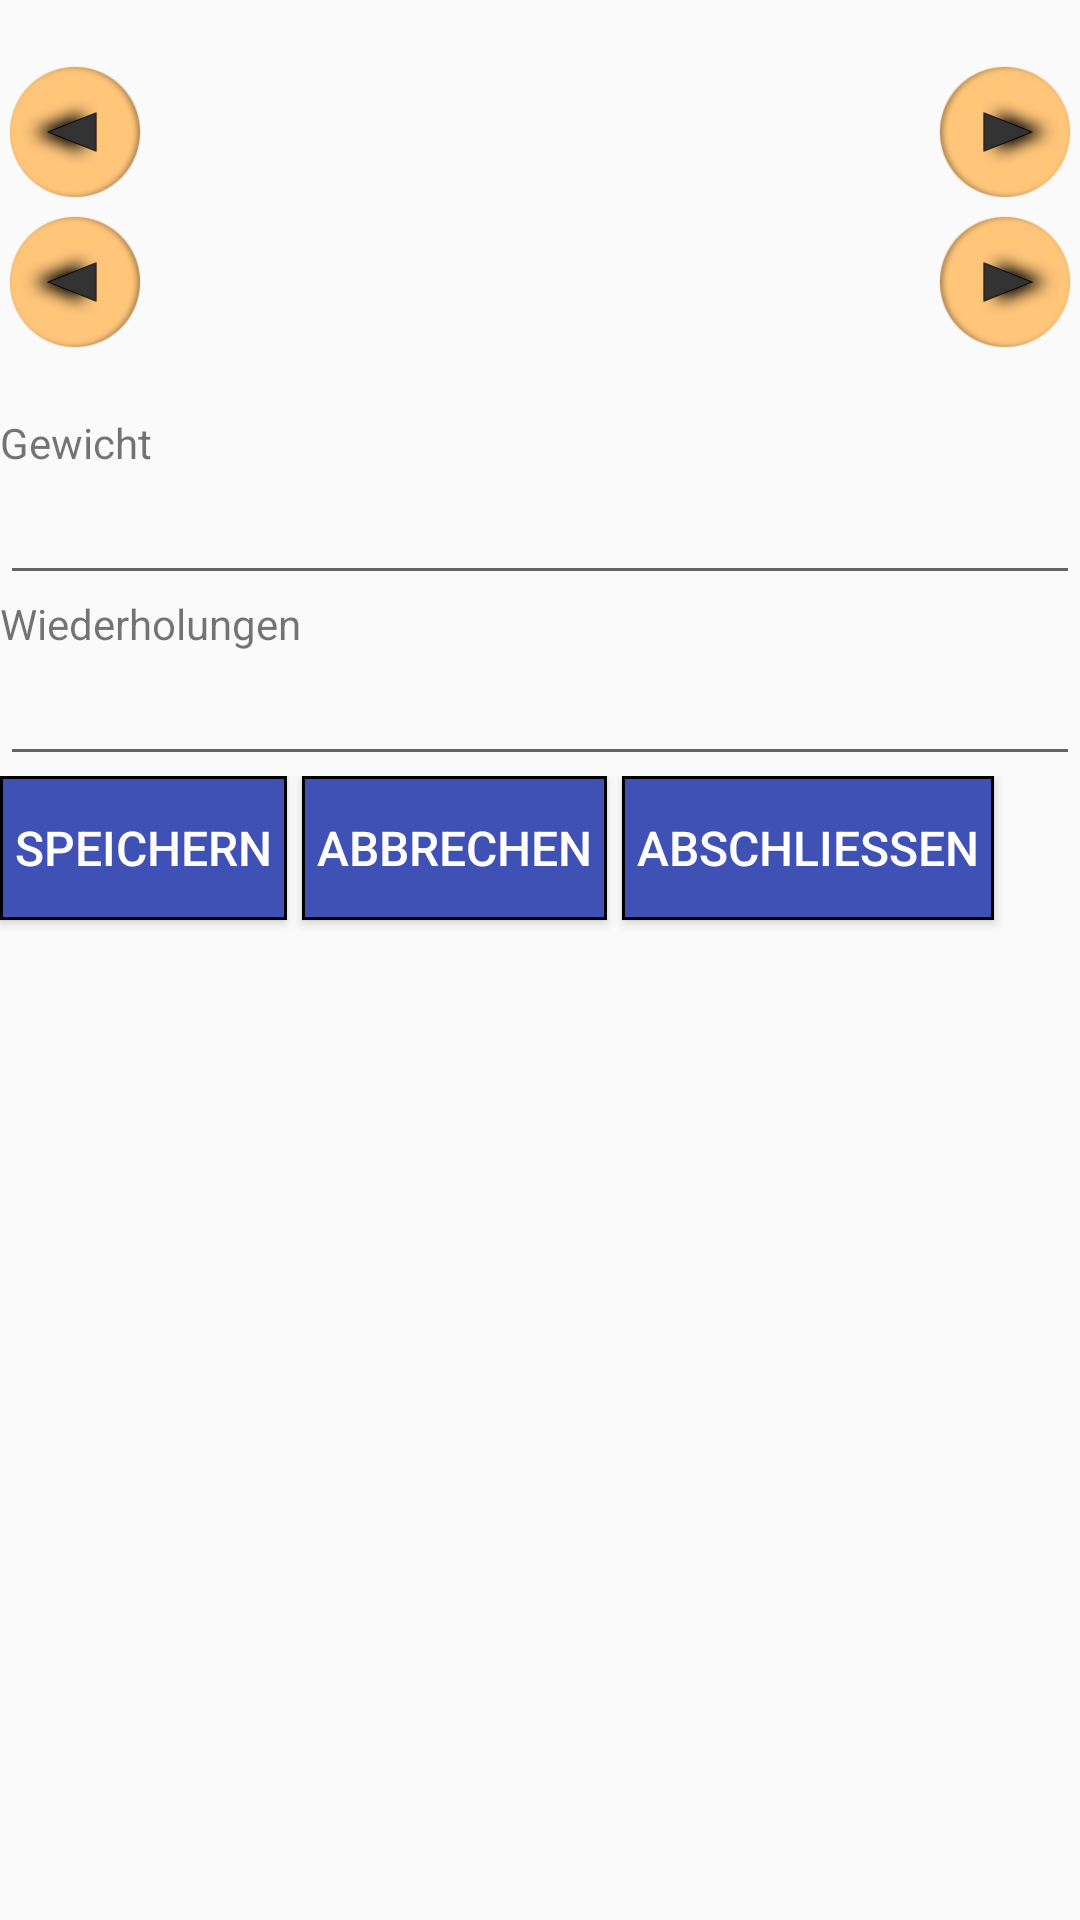

Icon click points for this 1080 × 1920 phone screenshot, format [x,y]:
arrow left: [75,132], [75,282]
arrow right: [1005,132], [1005,282]
